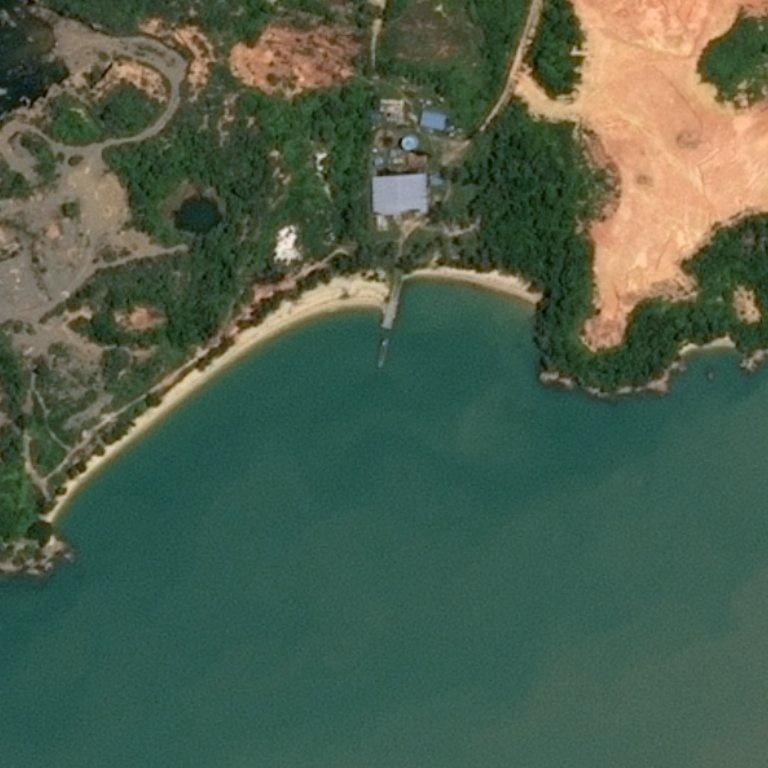ship: (376, 337, 390, 370)
